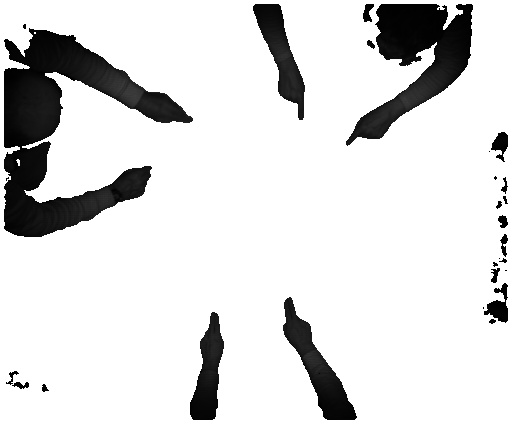hand: (344, 108, 396, 151), (143, 95, 199, 127), (280, 296, 313, 350), (279, 71, 311, 119), (116, 160, 151, 200), (200, 312, 223, 361)
